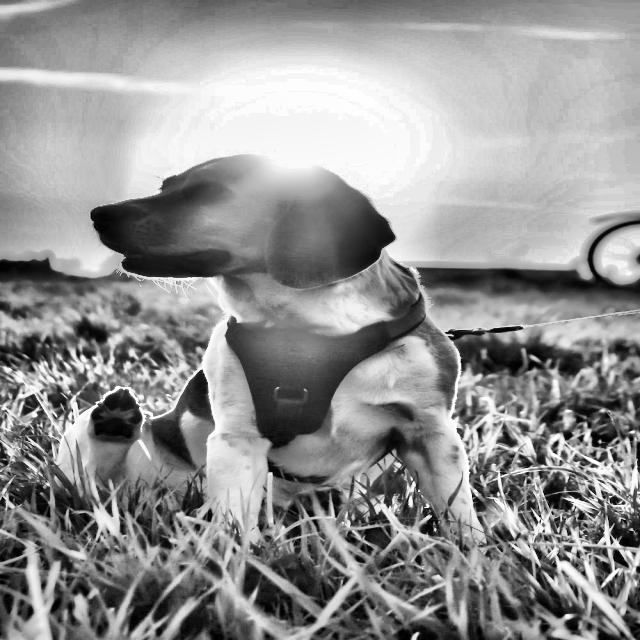beagle: (66, 121, 426, 321)
